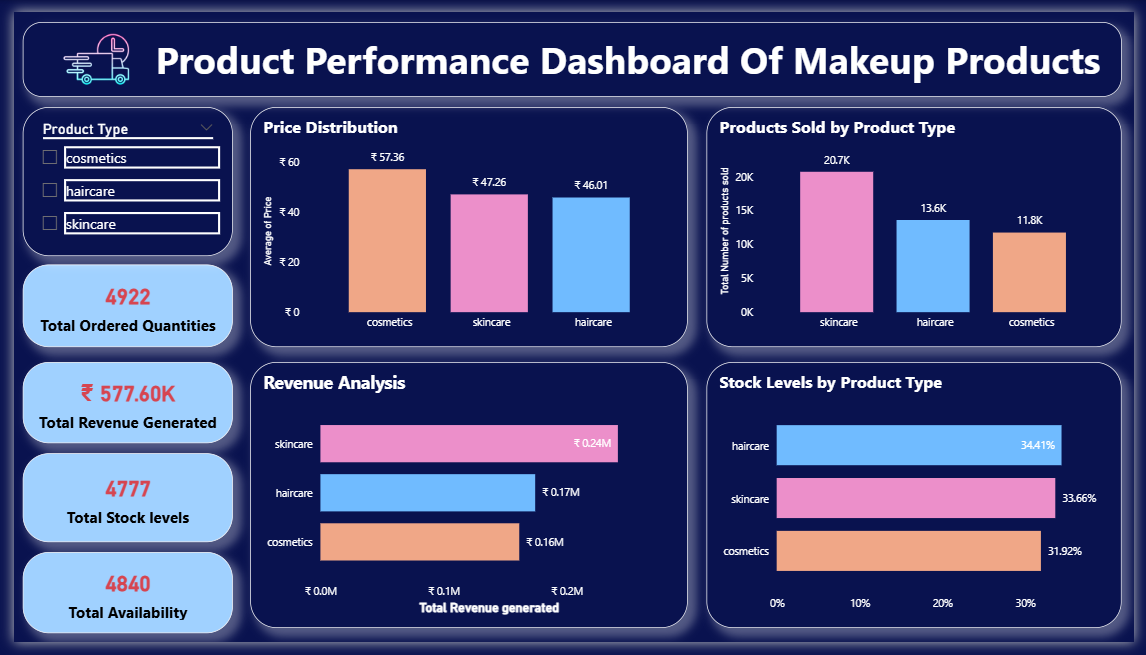

Layout of this report page (visuals, bound fields, positions):
{"tool":"powerbi","page":{"name":"Product Performance Dashboard","canvas":[1280,720],"ordinal":1},"visuals":[{"type":"clusteredColumnChart","title":"Price Distribution","fields":{"Y":["Avg(supply_chain_data.Price)"],"Category":["supply_chain_data.Product type"]},"box":[270,108.6,500,274.3],"z":0},{"type":"card","fields":{"Values":["Sum(supply_chain_data.Revenue generated)"]},"box":[10,400,240,92.9],"z":1000},{"type":"card","fields":{"Values":["Sum(supply_chain_data.Order quantities)"]},"box":[10,288.6,240,94.3],"z":2000},{"type":"card","fields":{"Values":["Sum(supply_chain_data.Stock levels)"]},"box":[10,504.3,240,101.4],"z":3000},{"type":"card","fields":{"Values":["Sum(supply_chain_data.Availability)"]},"box":[10,617.1,240,92.9],"z":4000},{"type":"clusteredBarChart","title":"Stock Levels by Product Type","fields":{"Y":["Sum(supply_chain_data.Stock levels)"],"Category":["supply_chain_data.Product type"]},"box":[791.4,400,474.3,304.3],"z":5000},{"type":"textbox","box":[10,11.4,1255.7,85.7],"z":6000},{"type":"slicer","fields":{"Values":["supply_chain_data.Product type"]},"box":[10,108.6,240,170],"z":7000},{"type":"clusteredBarChart","title":"Revenue Analysis","fields":{"Category":["supply_chain_data.Product type"],"Y":["Sum(supply_chain_data.Revenue generated)"]},"box":[270,400,500,304.3],"z":9000},{"type":"image","box":[22.9,0,142.9,108.6],"z":10000},{"type":"clusteredColumnChart","title":"Products Sold by Product Type","fields":{"Category":["supply_chain_data.Product type"],"Y":["Sum(supply_chain_data.Number of products sold)"]},"box":[791.4,108.6,474.3,274.3],"z":11000}]}

Visuals, with their boxes in screenshot pixels (x1, y1, x2, y2), scaled from the page's 1280x720 canvas onto the 1146x655 screenshot:
"Price Distribution" clusteredColumnChart: Rect(242, 99, 689, 348)
card - Sum(supply_chain_data.Revenue generated): Rect(9, 364, 224, 448)
card - Sum(supply_chain_data.Order quantities): Rect(9, 263, 224, 348)
card - Sum(supply_chain_data.Stock levels): Rect(9, 459, 224, 551)
card - Sum(supply_chain_data.Availability): Rect(9, 561, 224, 646)
"Stock Levels by Product Type" clusteredBarChart: Rect(709, 364, 1133, 641)
textbox: Rect(9, 10, 1133, 88)
slicer - supply_chain_data.Product type: Rect(9, 99, 224, 253)
"Revenue Analysis" clusteredBarChart: Rect(242, 364, 689, 641)
image: Rect(21, 0, 148, 99)
"Products Sold by Product Type" clusteredColumnChart: Rect(709, 99, 1133, 348)
